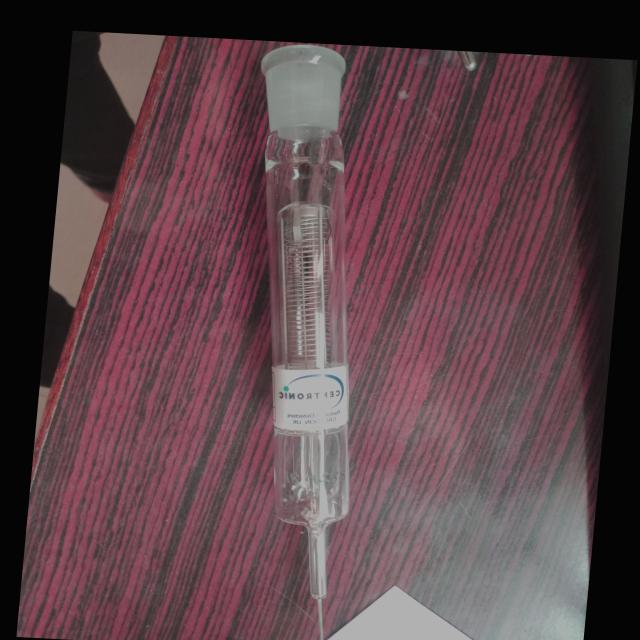Helium Lamp: (197, 40, 400, 640)
